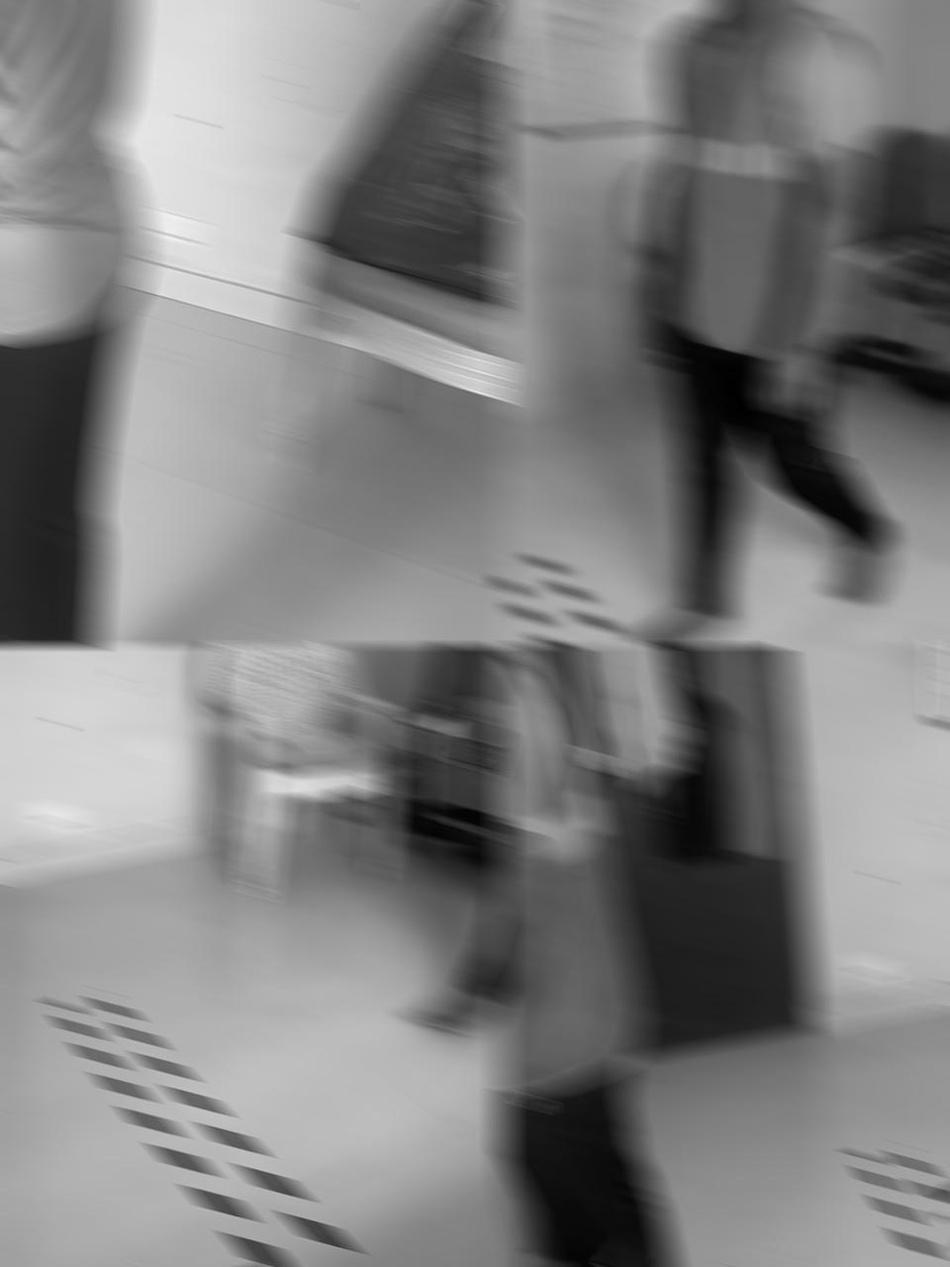BorderLine: (45, 987, 357, 1267), (497, 542, 786, 647), (850, 1143, 950, 1267)
No_Vest: (0, 0, 149, 347)
Person: (621, 0, 893, 646), (497, 643, 692, 1267), (0, 0, 149, 646), (417, 644, 509, 1035)
Vest: (657, 0, 869, 359), (497, 644, 648, 1094)
